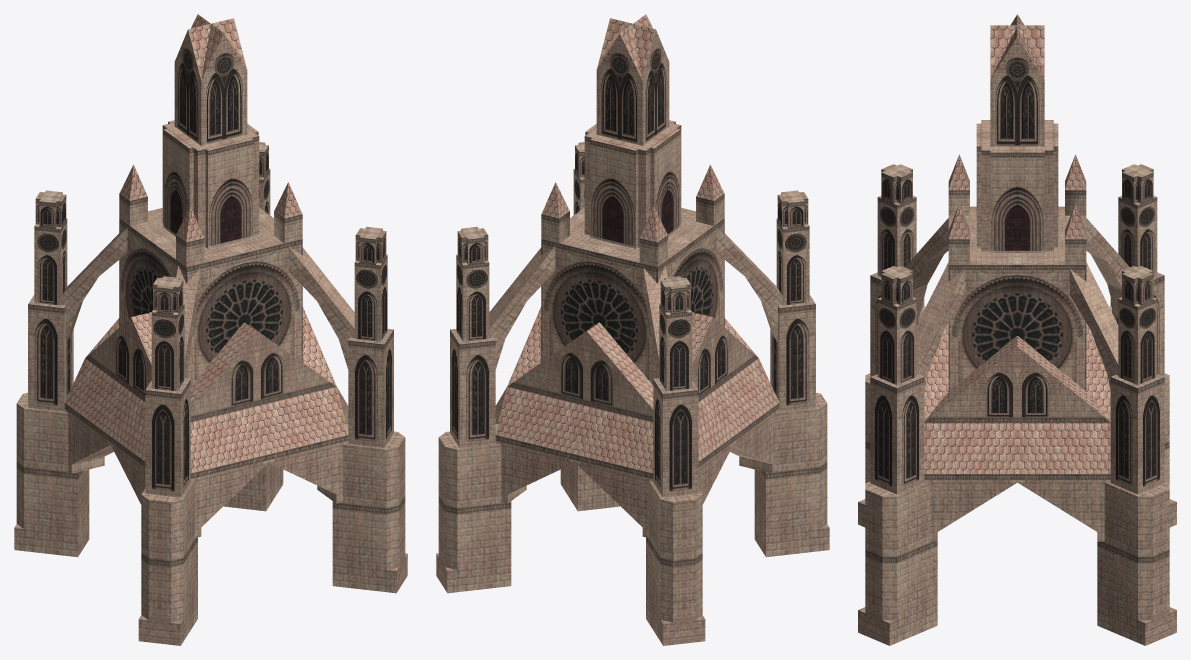
The model's file is Church.FBX.
The picture shows the model from 3 angles, left to right: view 1: azimuth 30°, elevation 25°; view 2: azimuth 150°, elevation 25°; view 3: azimuth 270°, elevation 25°; orthographic projection. The views are drawn at different scales.
Visible parts, largest first — view 1: Object011, Object012, Object013, Object014, Object010; view 2: Object011, Object012, Object013, Object014, Object010; view 3: Object012, Object011, Object013, Object014, Object010.
Boxes of the visible parts, x1,y1,x2,y2 form: Object011: (119,14,302,385); Object012: (28,142,393,497); Object013: (14,392,407,645); Object014: (65,306,348,473); Object010: (64,403,348,537); Object011: (541,14,724,385); Object012: (450,142,815,497); Object013: (436,392,829,645); Object014: (495,306,778,473); Object010: (495,403,779,537); Object012: (870,164,1164,494); Object011: (948,14,1086,390); Object013: (858,373,1176,645); Object014: (923,306,1111,473); Object010: (924,474,1110,541).
Bounding box in the file's own units: 15.31 × 29.31 × 15.31.
